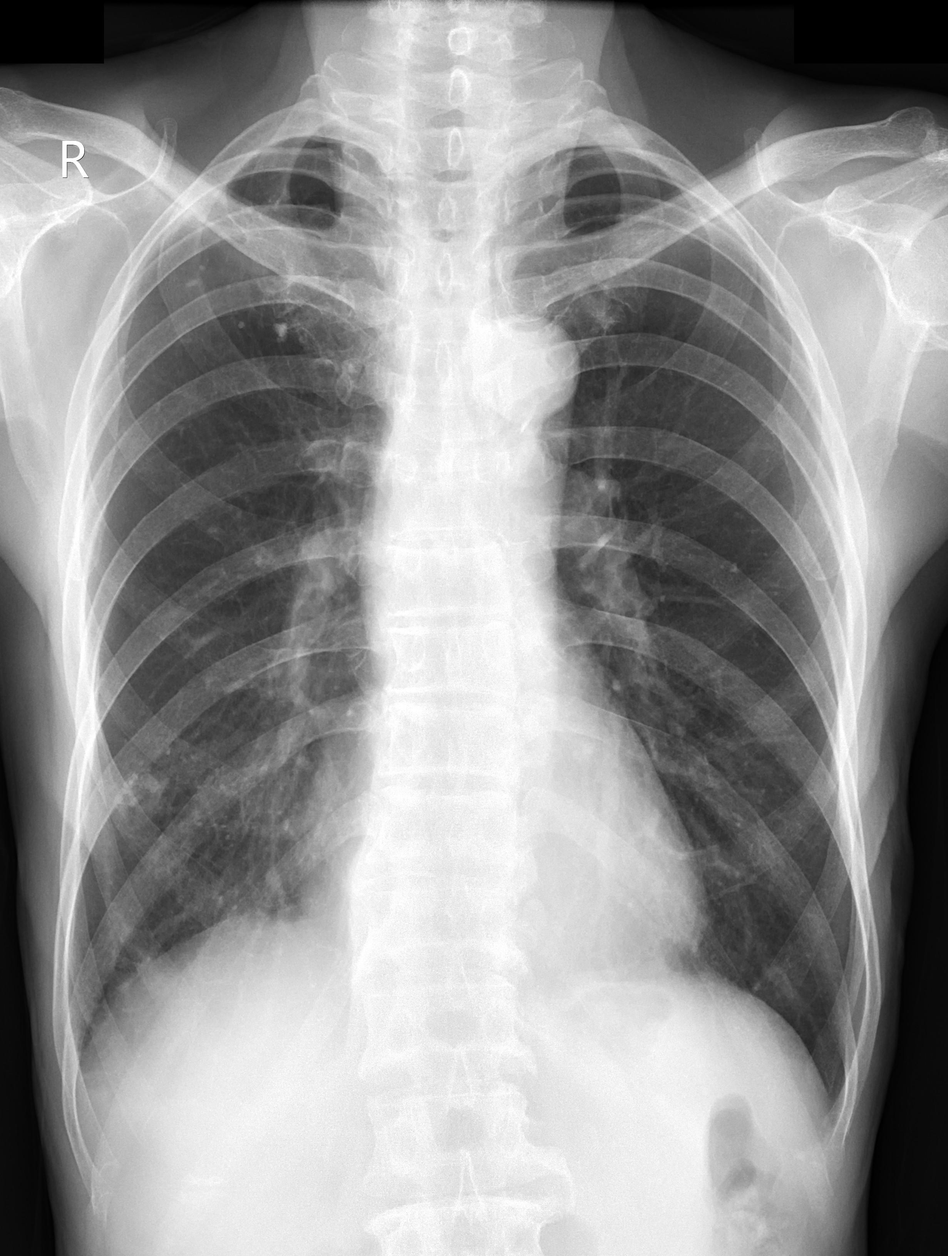Aortic enlargement: (457, 310, 583, 422)
Cardiomegaly: (293, 798, 713, 968)
